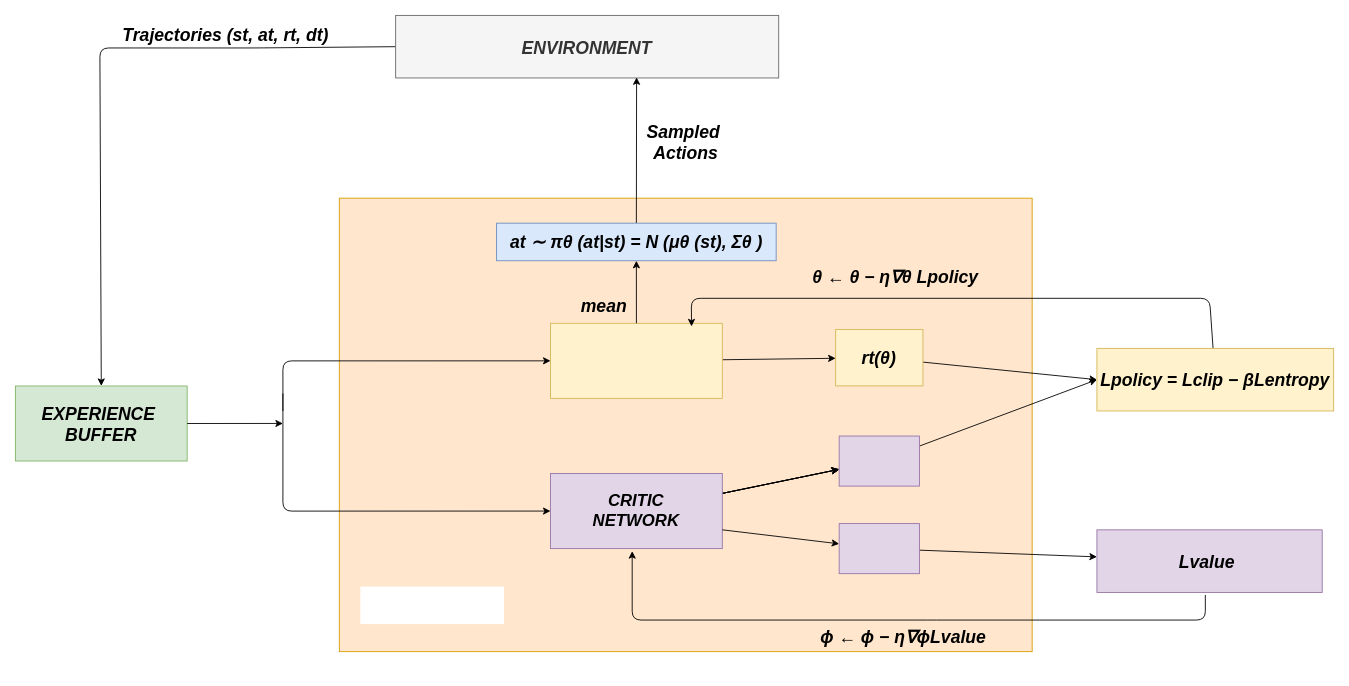
Image size: 1349x686. Some labels were removed from this diagram. Each missing label, with the centre of its shape:
"ACTOR NETWORK" belongs at (636,360).
"At" belongs at (878,460).
"PPO POLICY" belongs at (432,605).
"Vϕ(s)" belongs at (878,548).
